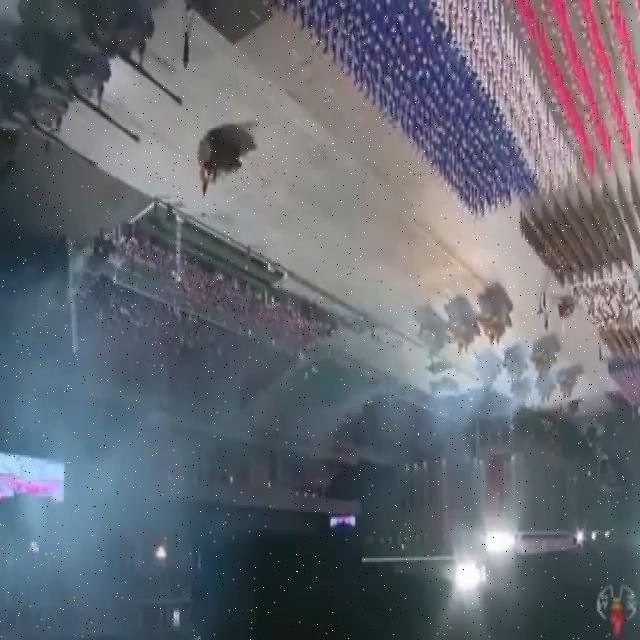north tank: (2, 0, 187, 121), (0, 15, 140, 168)
